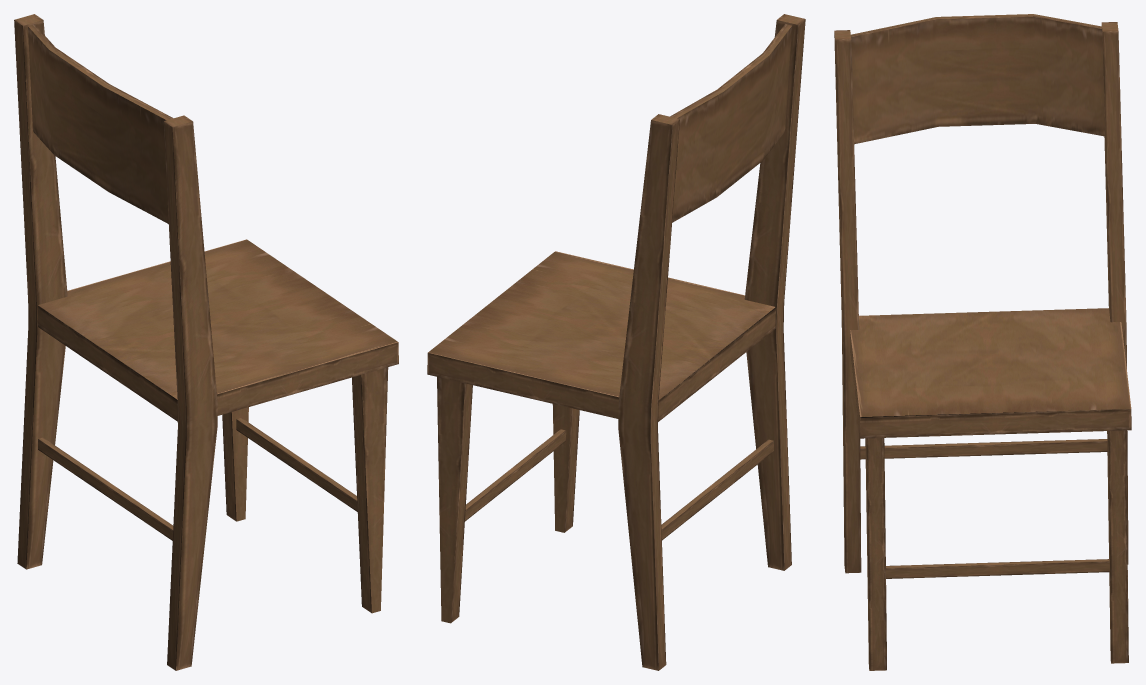
Rendered from chair.fbx.
The picture shows the model from 3 angles, left to right: view 1: azimuth 30°, elevation 25°; view 2: azimuth 150°, elevation 25°; view 3: azimuth 270°, elevation 25°; orthographic projection. The views are drawn at different scales.
Parts seen in each view (by area): view 1: polySurface529; view 2: polySurface529; view 3: polySurface529.
Part boxes in pixels (x1=…): polySurface529: x1=14, y1=14, x2=398, y2=670; polySurface529: x1=427, y1=14, x2=805, y2=670; polySurface529: x1=834, y1=14, x2=1131, y2=670.
Size of the model in its own units: 59.86 by 123 by 61.27.
1 material, 1 textured.
